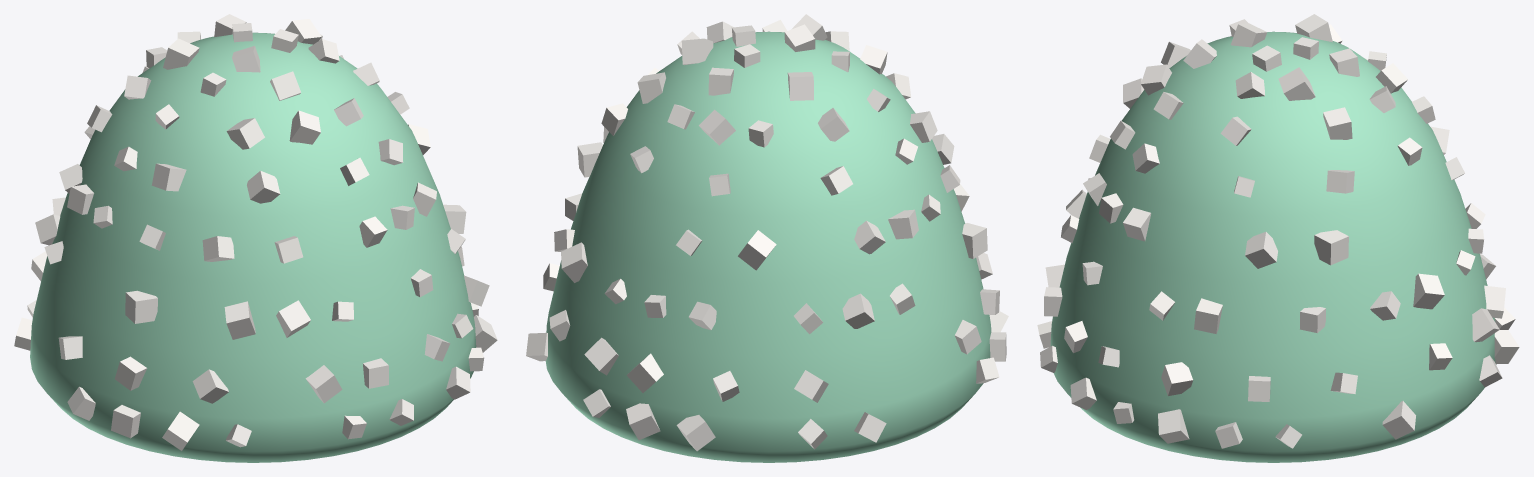
The model's file is gumdrop.glb.
3 views of the same model, side by side, from view 1: azimuth 30°, elevation 25°; view 2: azimuth 150°, elevation 25°; view 3: azimuth 270°, elevation 25° (orthographic).
Visible parts, largest first — view 1: gumdrop; view 2: gumdrop; view 3: gumdrop.
Boxes of the visible parts, <box> form: gumdrop: <box>14,14,497,462</box>; gumdrop: <box>526,14,1008,462</box>; gumdrop: <box>1037,14,1519,462</box>.
Bounding box in the file's own units: 0.5 × 0.4052 × 0.5085.
